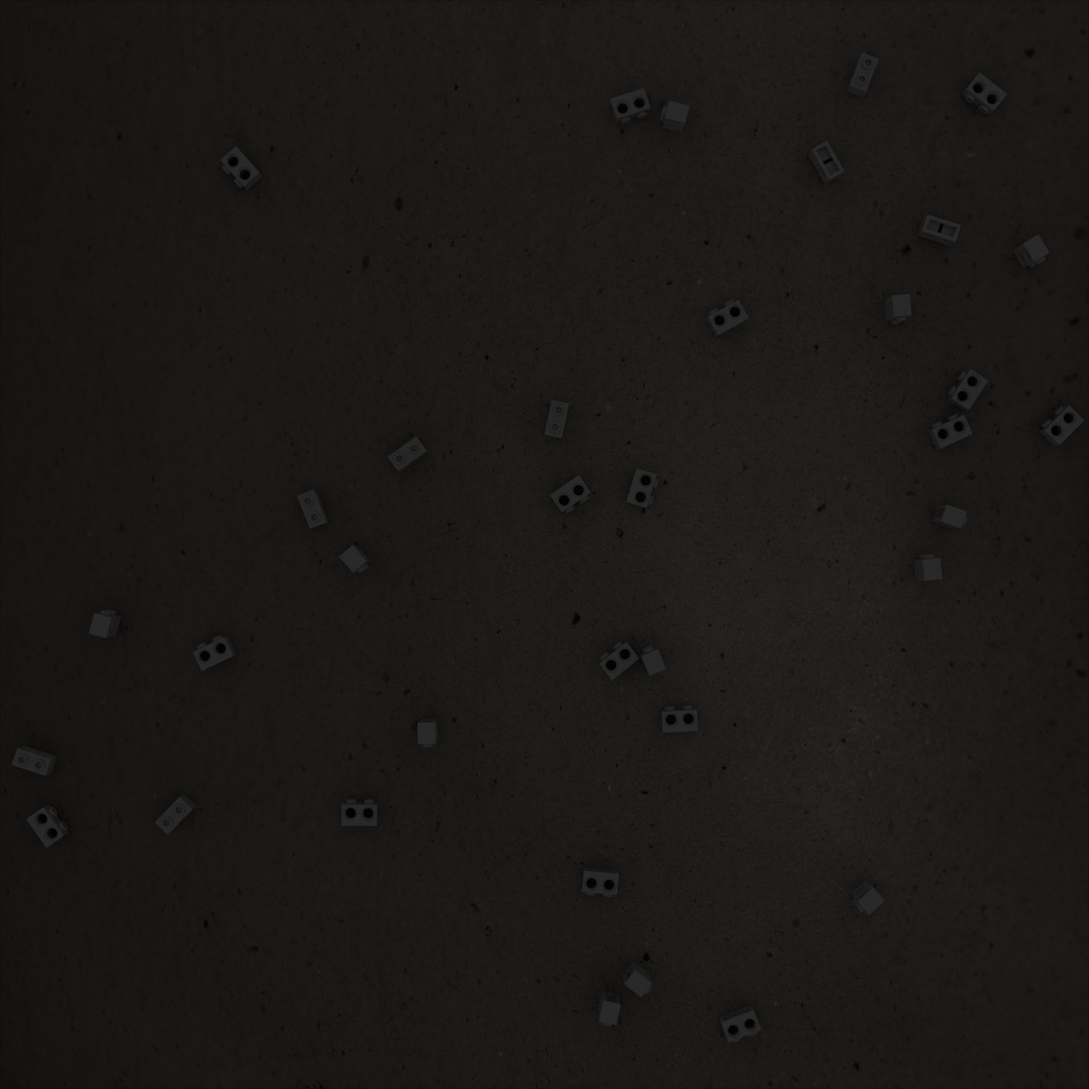lego: (962, 72, 1007, 116), (220, 146, 263, 191), (26, 804, 69, 848), (1039, 405, 1085, 446), (947, 369, 988, 412), (155, 794, 197, 835), (598, 641, 640, 681), (808, 140, 845, 185), (706, 299, 749, 337), (193, 634, 237, 671), (928, 414, 973, 450), (550, 475, 591, 514), (719, 1005, 761, 1043), (846, 52, 879, 98), (610, 88, 651, 124), (388, 436, 428, 472), (12, 745, 58, 776), (917, 214, 961, 246), (625, 468, 659, 508), (1012, 234, 1050, 268), (297, 489, 329, 529), (850, 880, 885, 915), (582, 867, 619, 897), (622, 961, 652, 997), (661, 705, 698, 733), (341, 799, 379, 826), (545, 400, 569, 440), (660, 101, 690, 133), (89, 609, 121, 638), (932, 504, 968, 529), (339, 545, 371, 573), (884, 294, 912, 324), (639, 645, 666, 676), (598, 990, 621, 1026), (914, 554, 943, 581), (417, 718, 438, 747)
